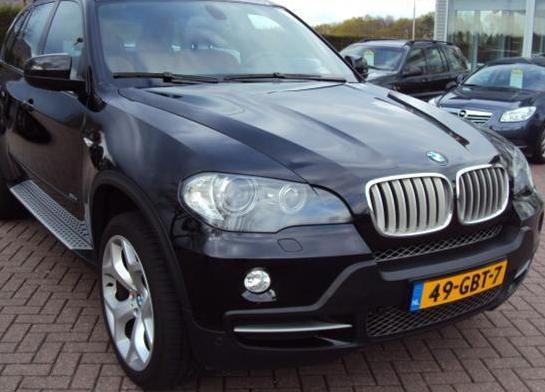front_view: (178, 144, 545, 365)
headlight: (177, 167, 361, 244)
side_glass: (3, 0, 92, 86)
